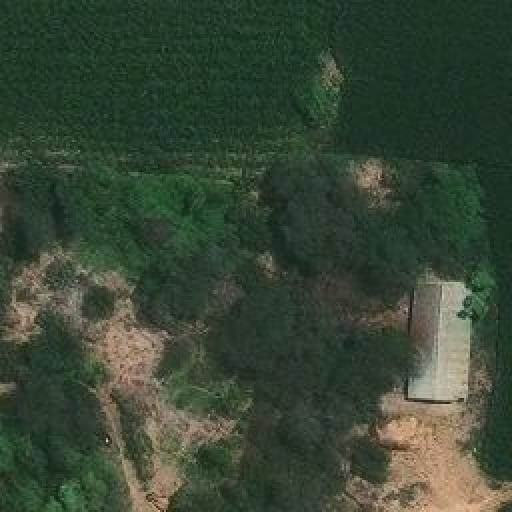manzanas: (399, 281, 477, 407)
